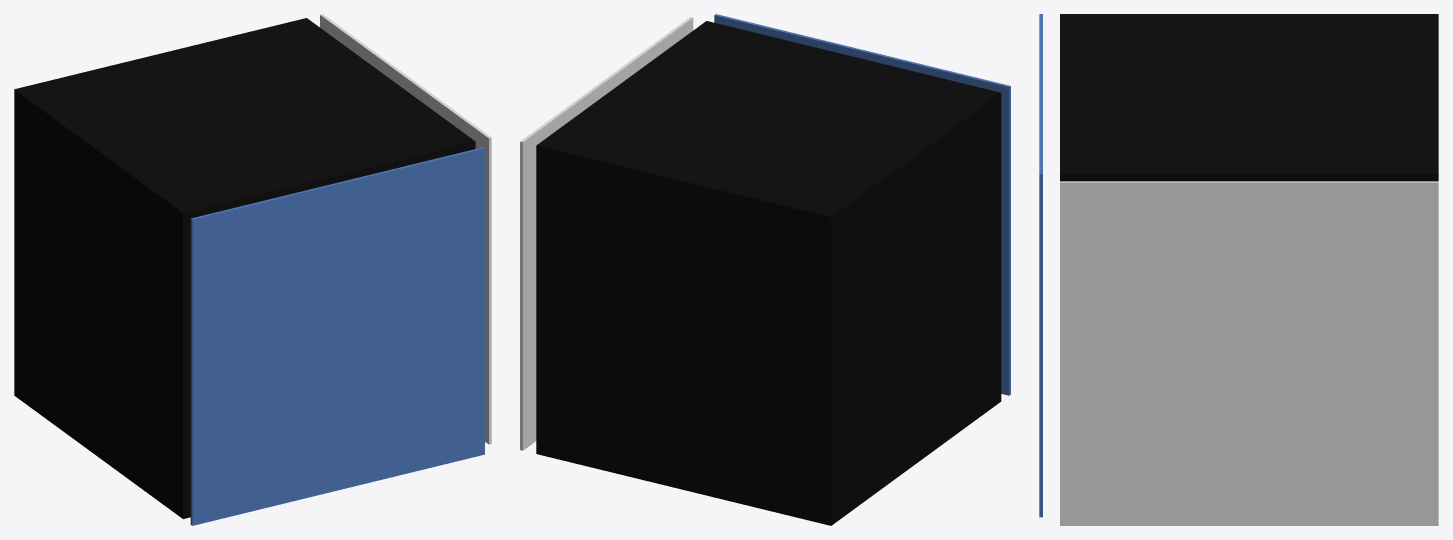
The picture shows the model from 3 angles, left to right: view 1: azimuth 30°, elevation 25°; view 2: azimuth 150°, elevation 25°; view 3: azimuth 270°, elevation 25°; orthographic projection. The views are drawn at different scales.
Parts seen in each view (by area): view 1: Cube, blue-9, white-3; view 2: Cube, white-3, blue-9; view 3: white-3, Cube, blue-9.
Part boxes in pixels (x1=…): Cube: x1=14, y1=18, x2=475, y2=518; blue-9: x1=190, y1=147, x2=484, y2=525; white-3: x1=320, y1=14, x2=491, y2=444; Cube: x1=536, y1=21, x2=1001, y2=525; white-3: x1=520, y1=17, x2=693, y2=450; blue-9: x1=714, y1=14, x2=1010, y2=395; white-3: x1=1060, y1=181, x2=1438, y2=525; Cube: x1=1060, y1=14, x2=1438, y2=181; blue-9: x1=1039, y1=14, x2=1042, y2=517.
Bounding box in the file's own units: 2.11 × 2 × 2.11.
